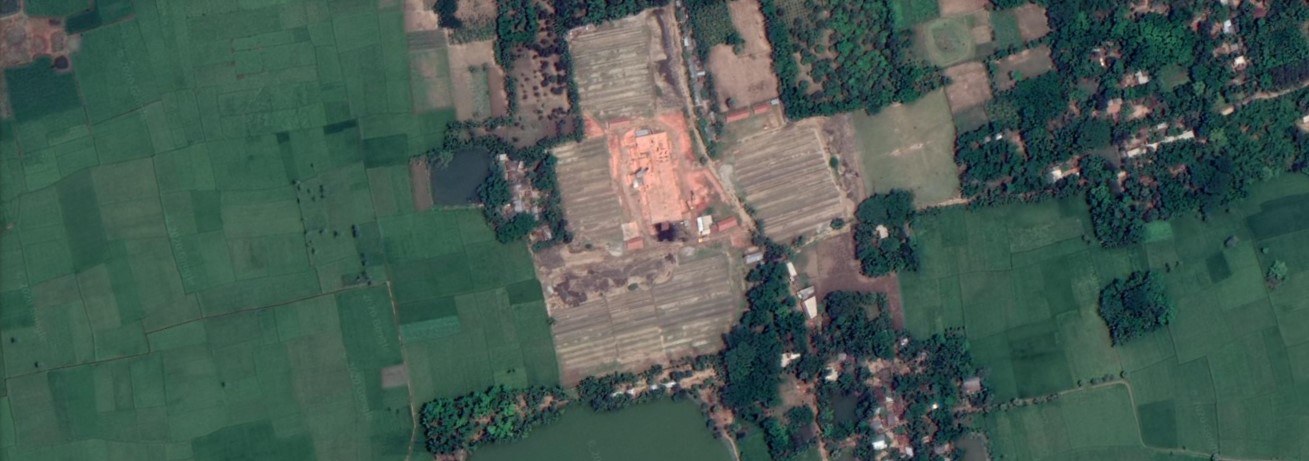kiln: (603, 133, 689, 222)
